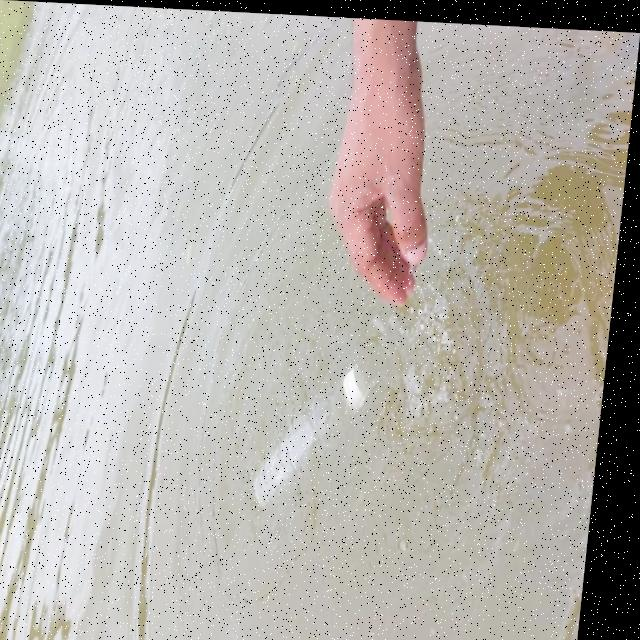waterbottle: (247, 325, 376, 540)
